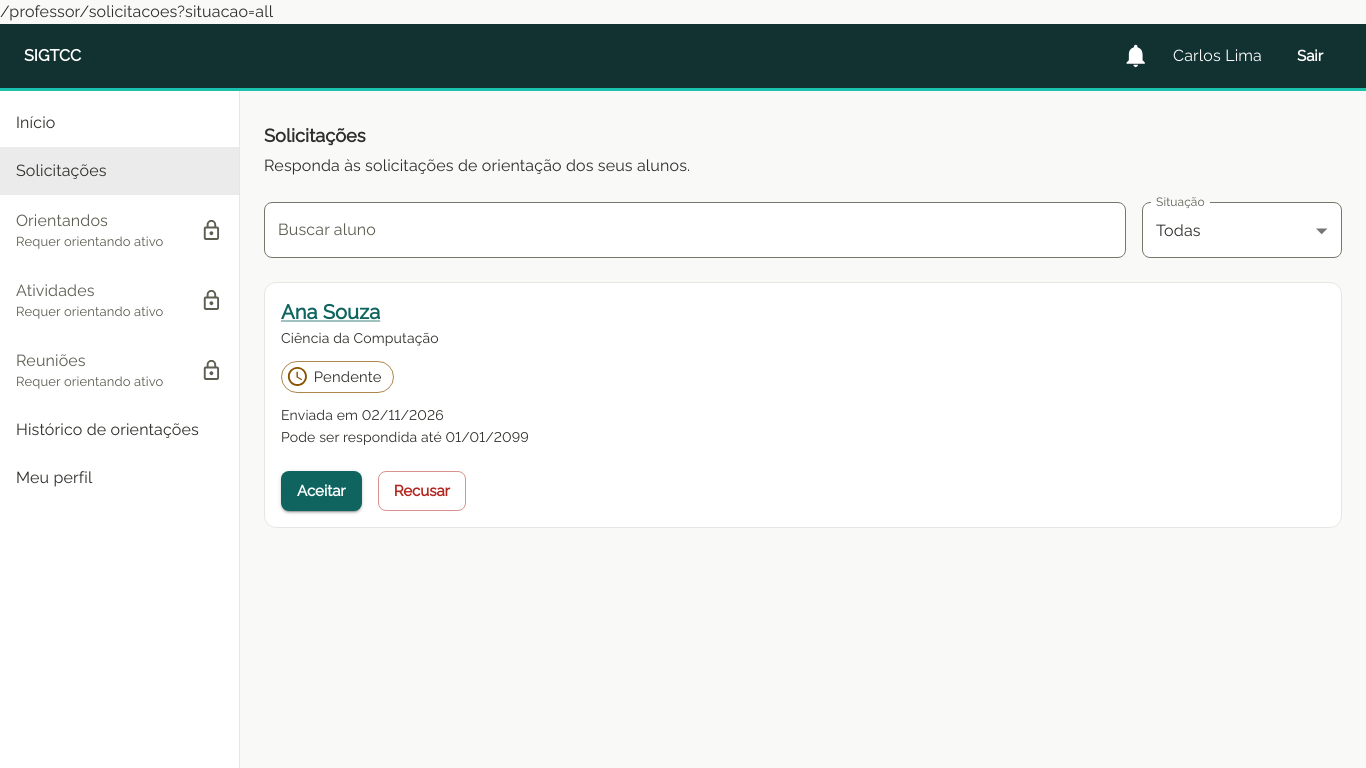
Test: Solicitações do professor: o diálogo aberto quando a solicitação muda › respondida em outra aba (rejected), o diálogo Aceitar avisa e bloqueia
This screenshot has width=1366, height=768.
Check: the element "Ana Souza" is shown, box [264,282,1342,528]
Click the button "Aceitar".
click(321, 491)  # box [281,471,362,511]
Wait 30000 ms
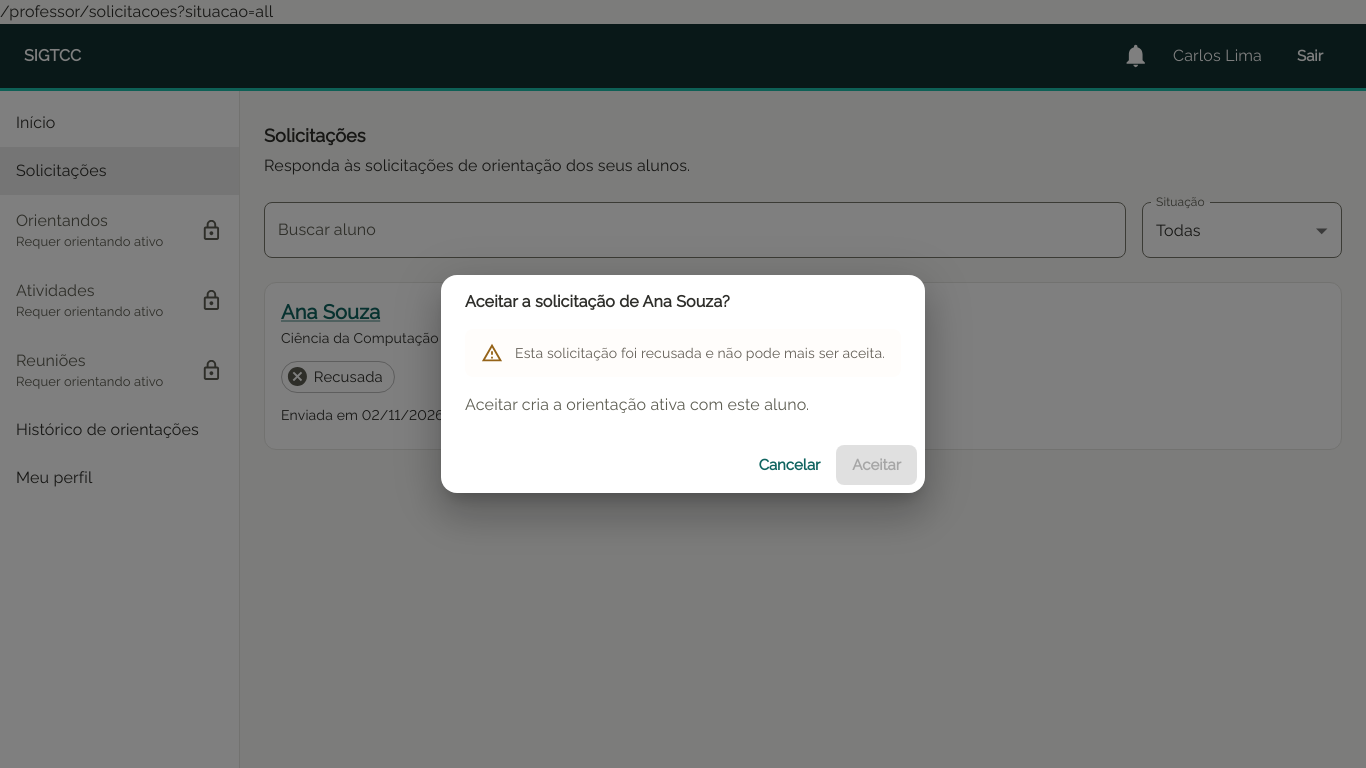
Check: the text "Esta solicitação foi recusada e não pode mais ser aceita." is shown, box [515,345,885,361]
Check: the button "Aceitar" is disabled, box [836,445,917,485]
